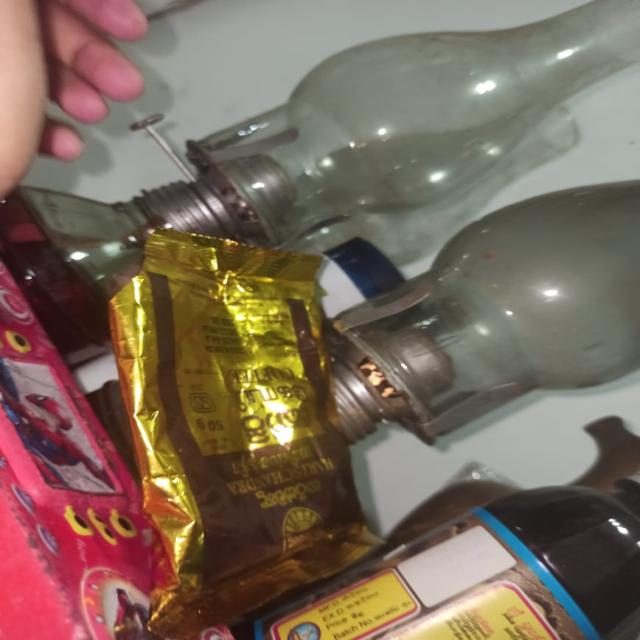Harischandra Coffee: (103, 230, 380, 628)
